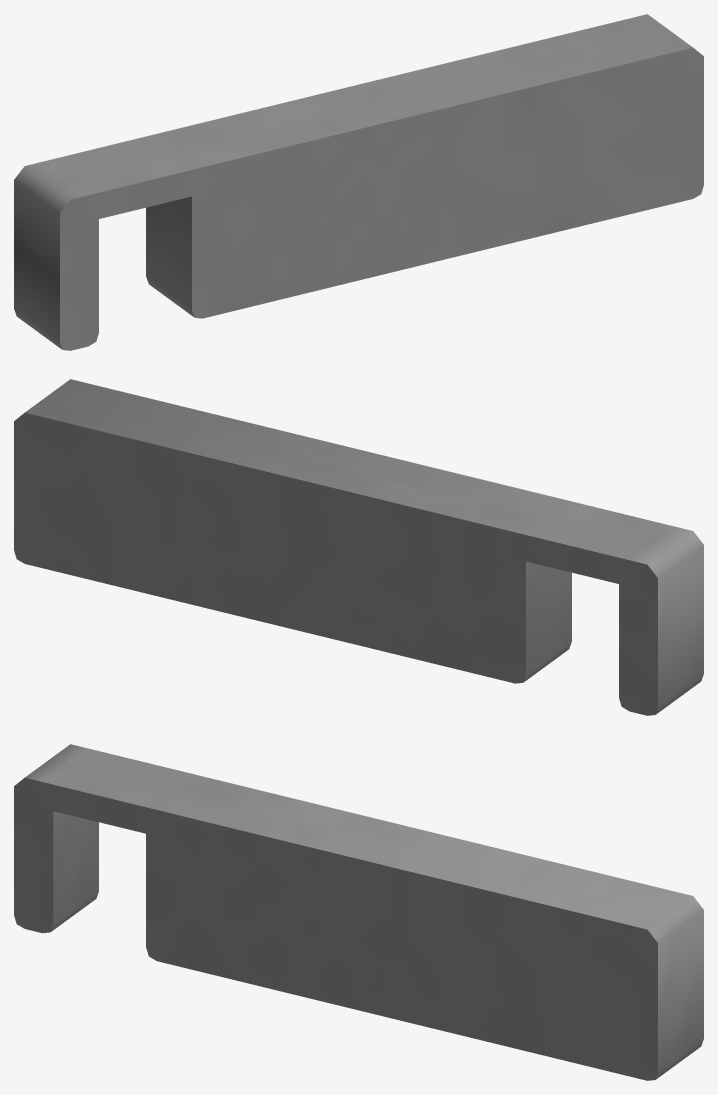
File: SM_止水夹子B_004.fbx
The picture shows the model from 3 angles, top to bottom: view 1: azimuth 30°, elevation 25°; view 2: azimuth 150°, elevation 25°; view 3: azimuth 330°, elevation 25°; orthographic projection.
Visible parts, largest first — view 1: SM_止水夹子B_004; view 2: SM_止水夹子B_004; view 3: SM_止水夹子B_004.
Part boxes in pixels (x1,y1,x2,y2): SM_止水夹子B_004: (14, 14, 703, 350); SM_止水夹子B_004: (14, 379, 703, 715); SM_止水夹子B_004: (14, 744, 703, 1080).
Bounding box in the file's own units: 0.0602 × 0.0135 × 0.00742.
